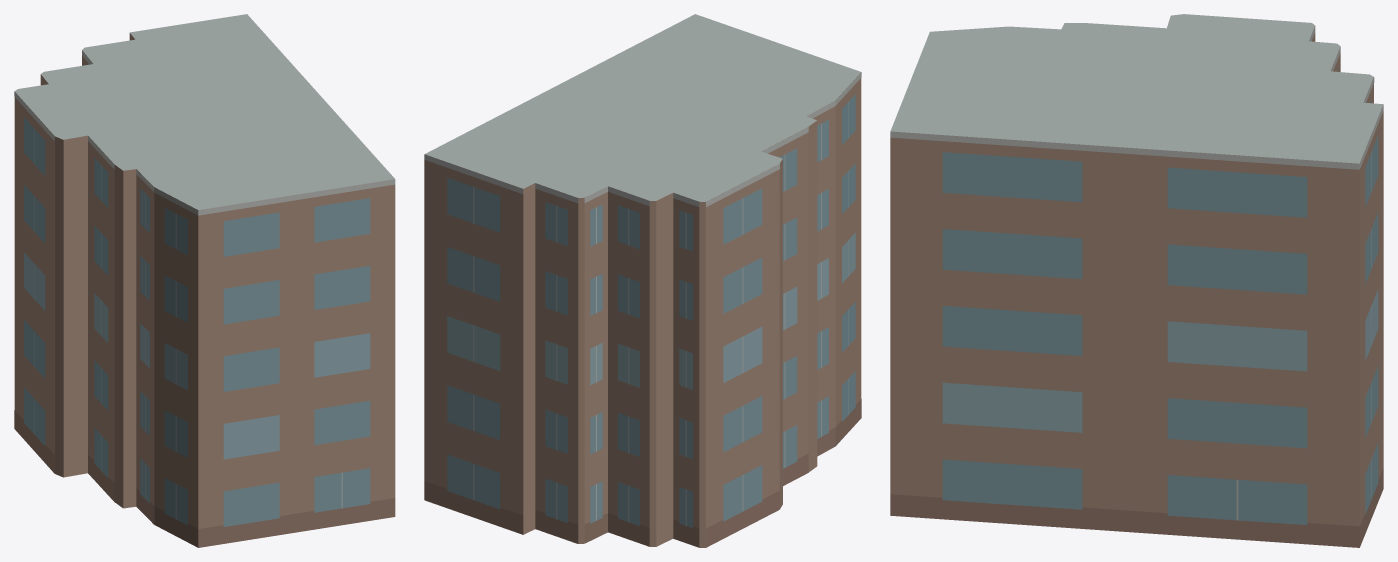
The model's file is survey-upis-32739830.glb.
3 renders of one model, left to right at view 1: azimuth 30°, elevation 25°; view 2: azimuth 150°, elevation 25°; view 3: azimuth 270°, elevation 25°, orthographic. The views are drawn at different scales.
Visible parts, largest first — view 1: survey-upis-32739830.tmp; view 2: survey-upis-32739830.tmp; view 3: survey-upis-32739830.tmp.
Part boxes in pixels (x1,y1,x2,y2): survey-upis-32739830.tmp: [14, 14, 395, 547]; survey-upis-32739830.tmp: [424, 14, 861, 547]; survey-upis-32739830.tmp: [890, 14, 1383, 547].
Bounding box in the file's own units: 12.75 × 15.25 × 17.76.
